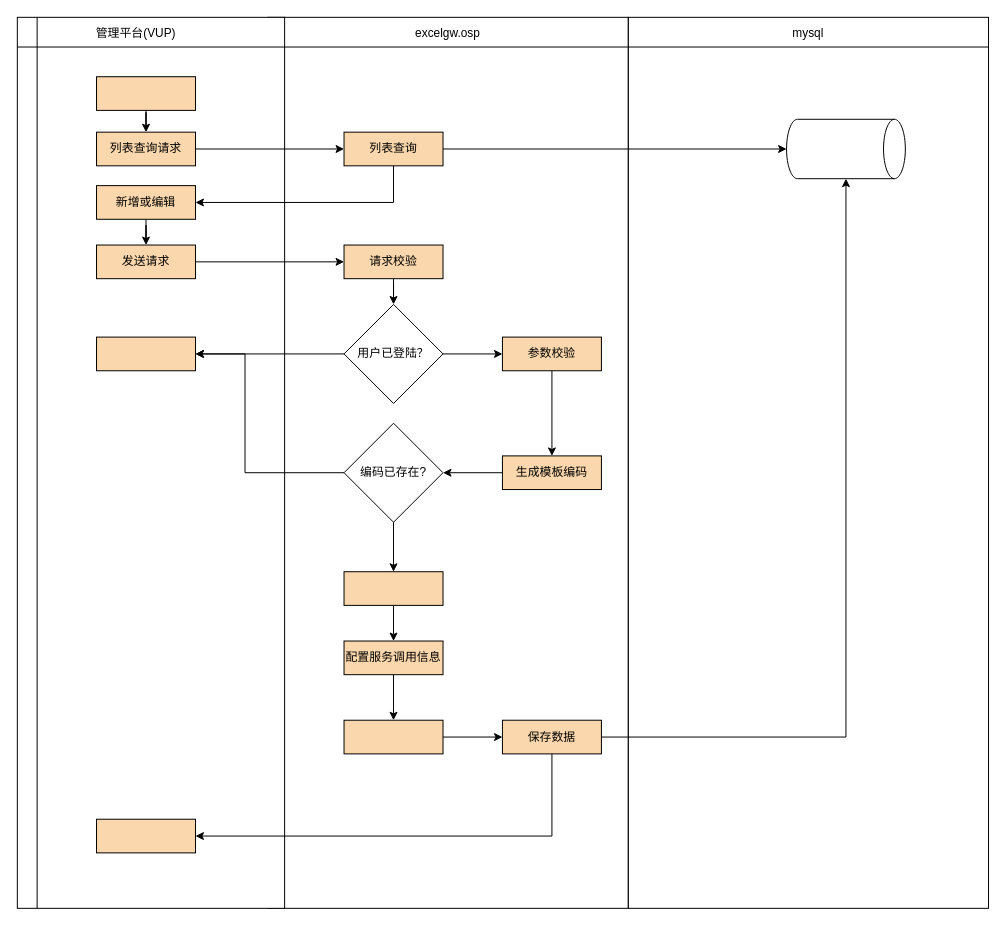
Image size: 1006x926. Some labels were removed from this diagram. The shapes that lost their labels are listed below. From the top down, each one's box as (x1, y1, x2, y2) in pixels, then its label:
(96, 76, 196, 110): 开始
(786, 118, 905, 179): import_template
(96, 336, 196, 371): 结束
(343, 571, 443, 605): 录入模板基本信息
(343, 719, 443, 754): Excel字段映射配置
(96, 818, 196, 853): 响应成功
